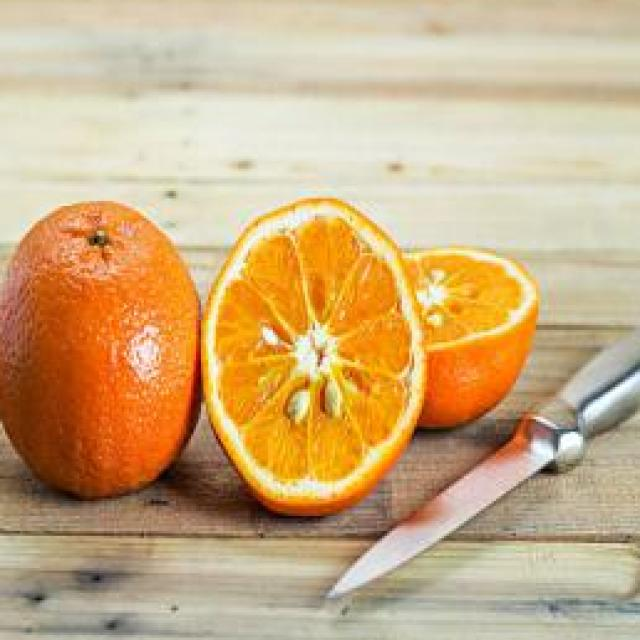knife: (320, 317, 640, 603)
